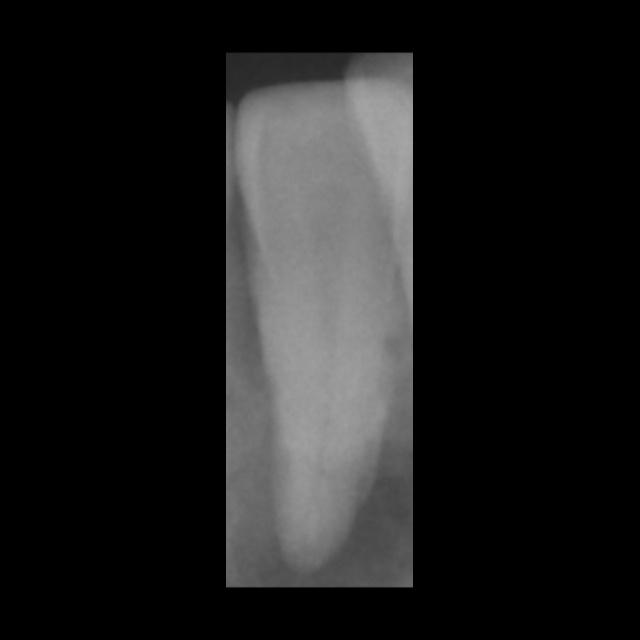tooth: (231, 75, 413, 576)
